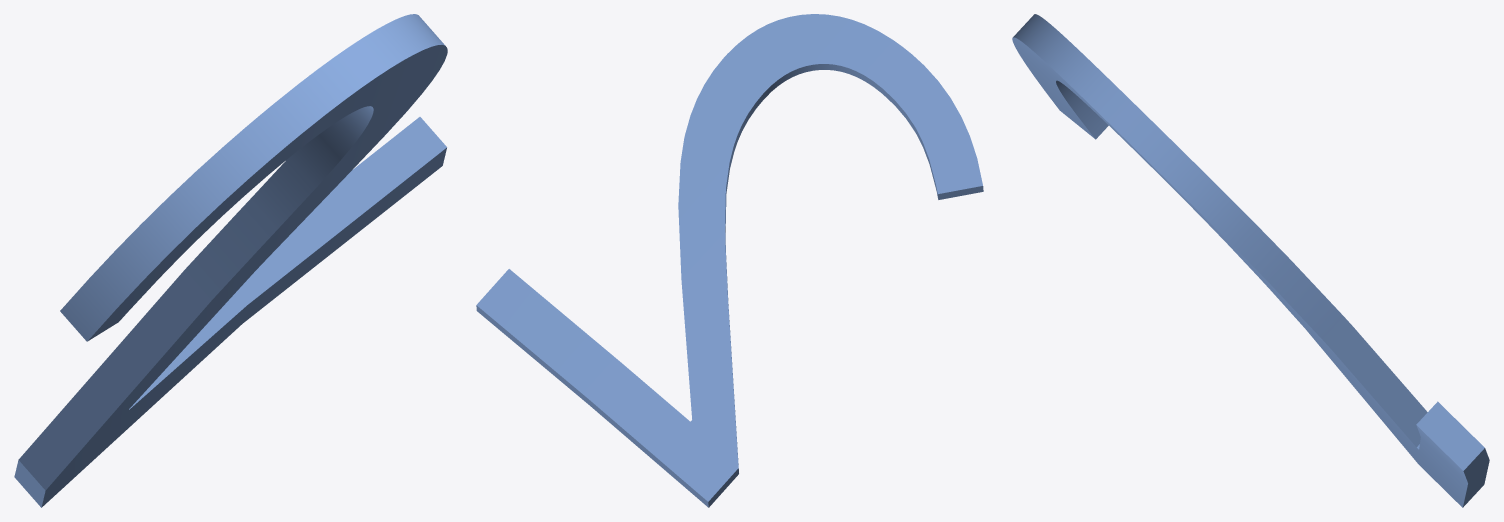
File: Number_2.gltf
3 renders of one model, left to right at view 1: azimuth 30°, elevation 25°; view 2: azimuth 150°, elevation 25°; view 3: azimuth 270°, elevation 25°, orthographic. The views are drawn at different scales.
Parts seen in each view (by area): view 1: Sub_3_Cell_3_2_Number_2; view 2: Sub_3_Cell_3_2_Number_2; view 3: Sub_3_Cell_3_2_Number_2.
Part boxes in pixels (bbox=[...]): Sub_3_Cell_3_2_Number_2: bbox=[14, 14, 447, 507]; Sub_3_Cell_3_2_Number_2: bbox=[476, 14, 983, 507]; Sub_3_Cell_3_2_Number_2: bbox=[1012, 14, 1489, 507].
Size of the model in its own units: 0.0225 by 0.0221 by 0.0191.
